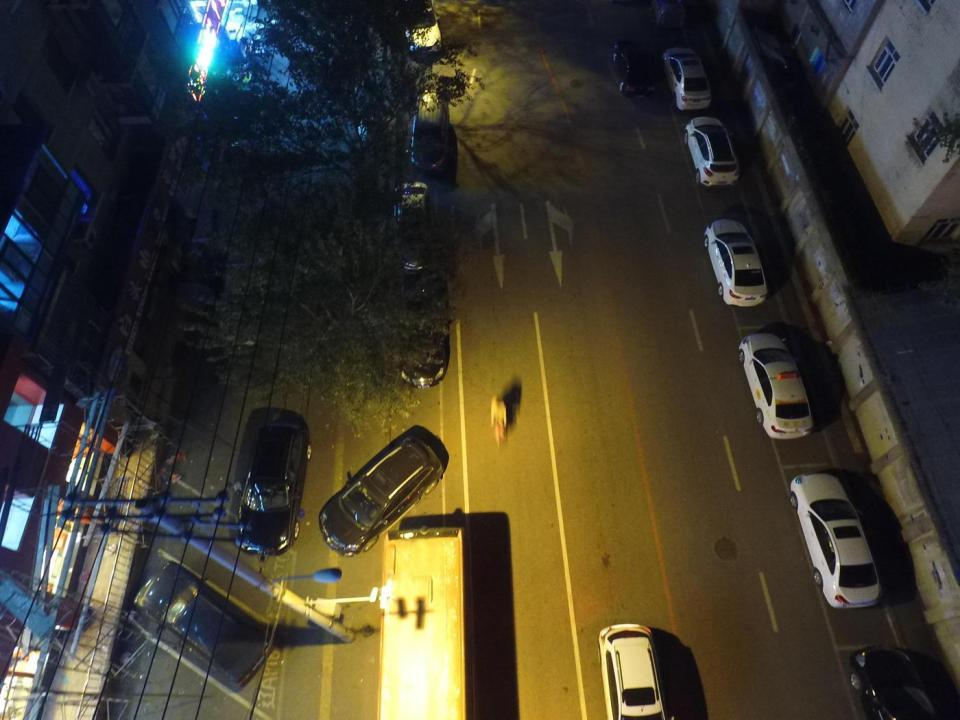bus: (378, 526, 474, 716)
car: (132, 560, 276, 684), (320, 432, 443, 556), (787, 471, 882, 611), (234, 422, 314, 554), (739, 333, 814, 440), (852, 644, 944, 719), (599, 623, 671, 718), (703, 218, 770, 308), (398, 274, 448, 384), (409, 86, 460, 174), (393, 180, 440, 273), (683, 116, 738, 186), (662, 44, 711, 109), (398, 0, 450, 56), (612, 37, 658, 97)
van: (656, 1, 685, 30)
